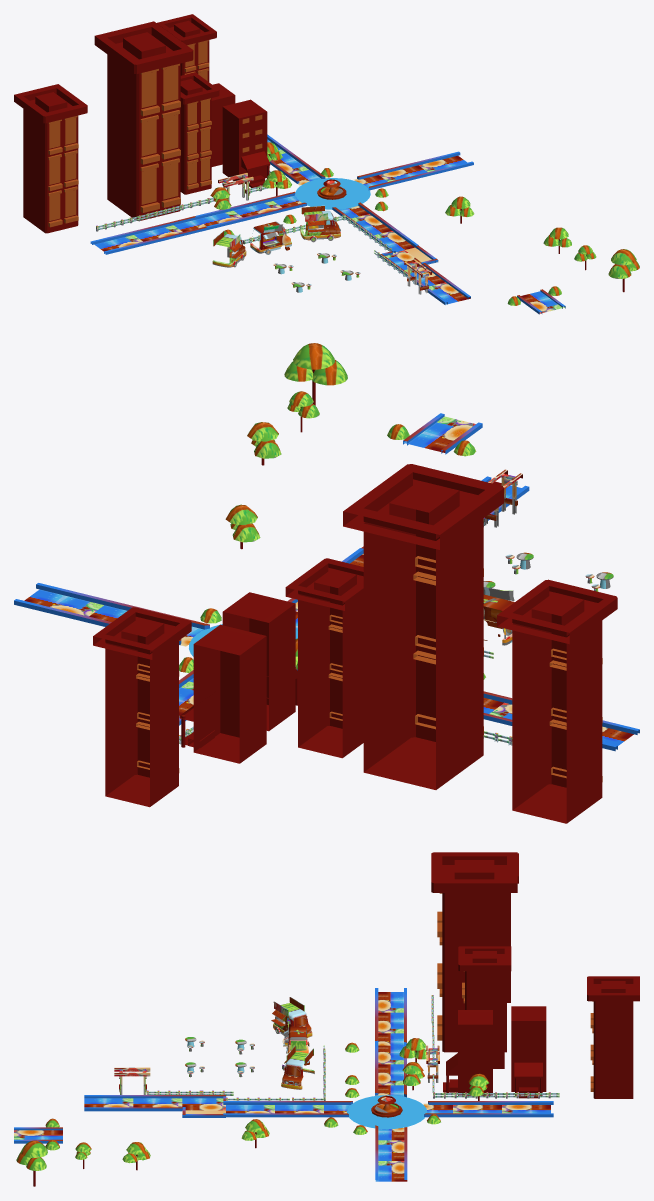
Rendered from Back.001.fbx.
3 views of the same model, one above another, from view 1: azimuth 30°, elevation 25°; view 2: azimuth 150°, elevation 25°; view 3: azimuth 270°, elevation 25° (orthographic). The views are drawn at different scales.
Visible parts, largest first — view 1: Cube__1_.001, Cube_004.001, Cube_001__1_.001, Cube_003.001, Cube_005.001, Cube.001, Plane_012__4_.001, Plane_012__3_.001, Plane_003.001, Plane_012__2_.001, Cube_001.001, Plane_012.001 (+10 smaller); view 2: Cube__1_.001, Cube_004.001, Cube__2_.001, Cube.001, Cube_006.001, Cube_003.001, Plane_012__4_.001, Plane_009__1_.001, Plane_012__3_.001, Cube_001__1_.001, decor_5_6.001, Cube_030.001; view 3: Cube__1_.001, Cube__2_.001, Cube.001, Cube_006.001, Cube_003.001, Plane_003.001, Plane_012__1_.001, Plane_012.001, Plane_012__4_.001, Plane_012__3_.001, Circle.001, Plane_012__2_.001 (+4 smaller).
Part boxes in pixels (x1,y1,x2,y2): Cube__1_.001: (94,21,193,220); Cube_004.001: (14,84,87,233); Cube_001__1_.001: (140,63,180,212); Cube_003.001: (222,99,270,187); Cube_005.001: (48,115,78,227); Cube.001: (180,72,219,194); Plane_012__4_.001: (354,151,473,190); Plane_012__3_.001: (90,216,206,254); Plane_003.001: (379,245,470,304); Plane_012__2_.001: (191,191,306,230); Cube_001.001: (187,98,211,189); Plane_012.001: (332,202,418,253); Cube__1_.001: (343,464,503,789); Cube_004.001: (497,579,617,823); Cube__2_.001: (93,607,191,807); Cube.001: (285,558,363,758); Cube_006.001: (179,624,266,763); Cube_003.001: (222,592,297,731); Plane_012__4_.001: (14,583,209,646); Plane_009__1_.001: (403,413,482,454); Plane_012__3_.001: (483,691,639,751); Cube_001__1_.001: (413,556,483,734); decor_5_6.001: (293,343,334,369); Cube_030.001: (485,469,522,527); Cube__1_.001: (431,852,517,1052); Cube__2_.001: (587,976,639,1098); Cube.001: (458,946,511,1068); Cube_006.001: (511,1006,546,1098); Cube_003.001: (443,1010,492,1095); Plane_003.001: (84,1095,226,1117); Plane_012__1_.001: (423,1101,553,1117); Plane_012.001: (223,1101,352,1117); Plane_012__4_.001: (375,1125,407,1181); Plane_012__3_.001: (375,988,406,1045); Circle.001: (347,1095,427,1129); Plane_012__2_.001: (375,1040,406,1097).
Bounding box in the file's own units: 12.59 × 5 × 16.
